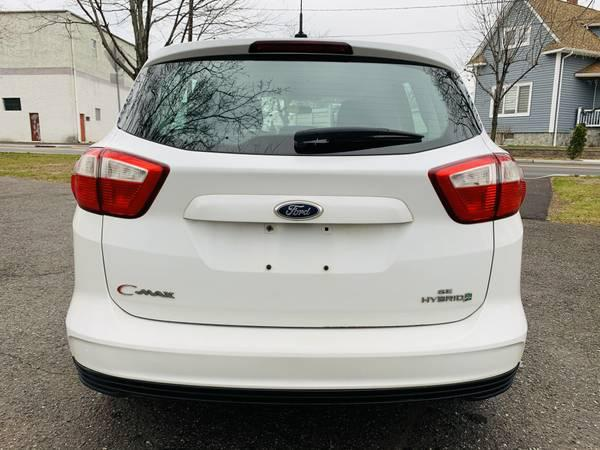Left_Taillight: (70, 147, 171, 217)
Rear_Bumper: (67, 205, 527, 404)
Rear_Windshield: (115, 57, 483, 157)
Right_Taillight: (426, 151, 524, 224)
Tailgate: (92, 127, 502, 328)
